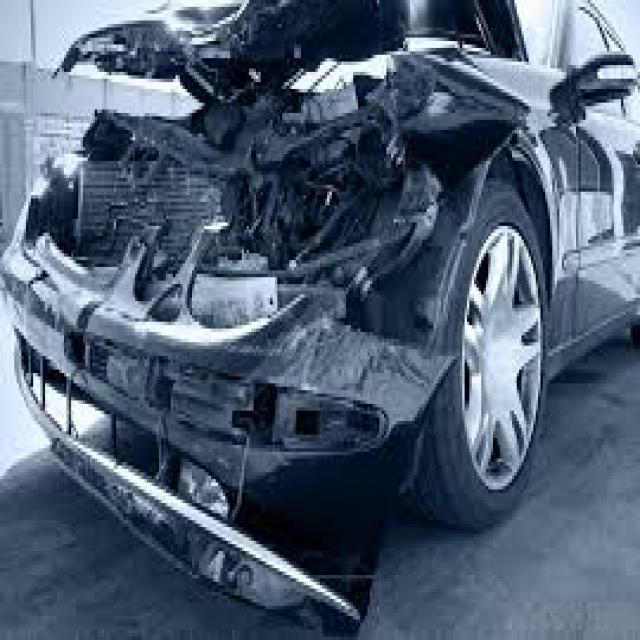moderate: (8, 0, 632, 607)
